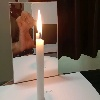fire: (39, 12, 42, 40)
